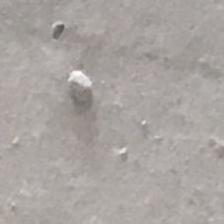Non_Crack: (22, 12, 224, 203)
